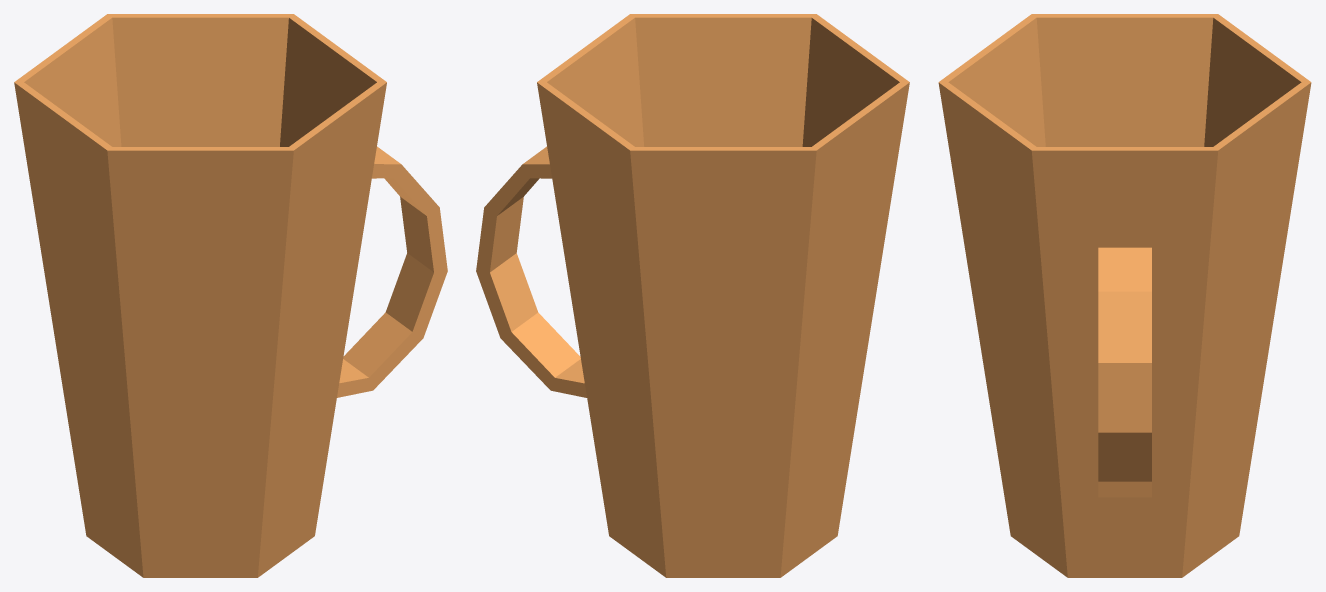
File: Cup_02.fbx
3 renders of one model, left to right at view 1: azimuth 30°, elevation 25°; view 2: azimuth 150°, elevation 25°; view 3: azimuth 270°, elevation 25°, orthographic.
Visible parts, largest first — view 1: Cup_02; view 2: Cup_02; view 3: Cup_02.
Part boxes in pixels (left/top/right/bottom): Cup_02: left=14, top=14, right=447, bottom=577; Cup_02: left=476, top=14, right=909, bottom=577; Cup_02: left=938, top=14, right=1311, bottom=577.
Bounding box in the file's own units: 13.11 × 15.21 × 11.33.
